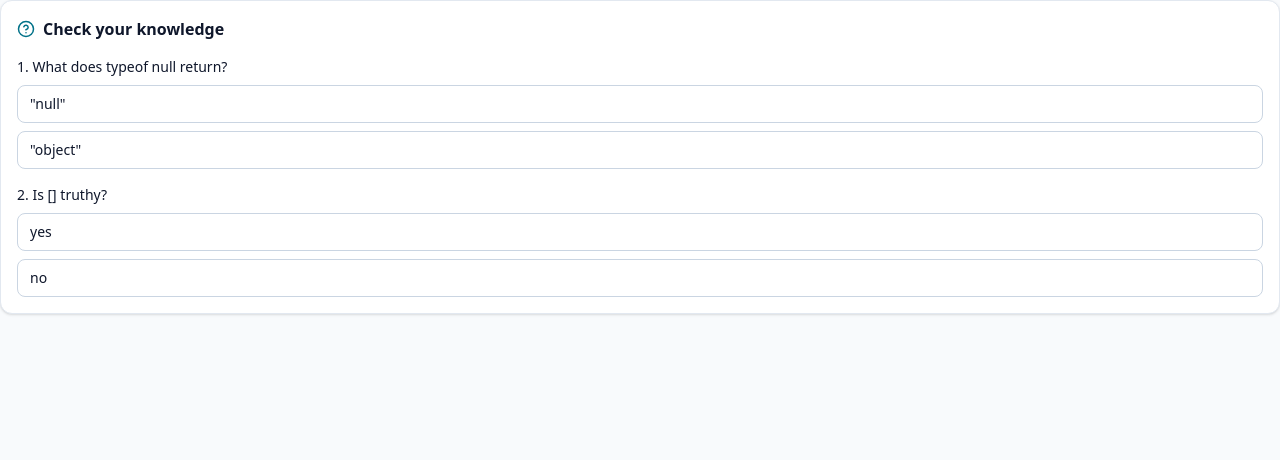
Quiz › reveals right and wrong answers with the explanation and counts the score
What coordinates should you click on to do the following:
click the button "\"null\""
I would click on:
 (48, 104)
Its box is [17,85,1263,123].
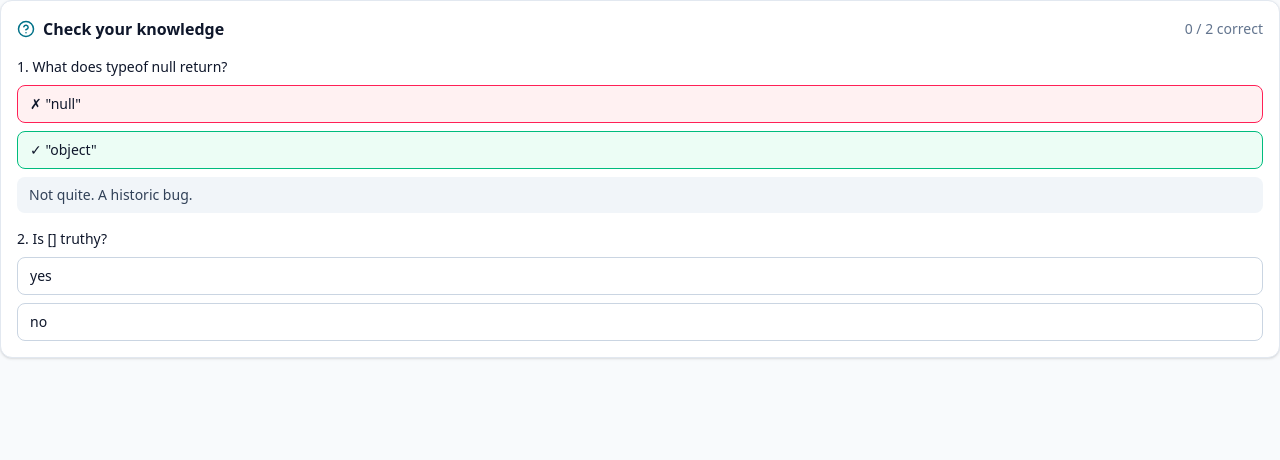
Expected: the text "Not quite. A historic bug." is shown, [17,177,1263,213]
Expected: the button "✓ \"object\"" is disabled, [17,131,1263,169]
What coordinates should you click on to do the following:
click the button "yes"
I would click on:
 (41, 276)
Its box is [17,257,1263,295].
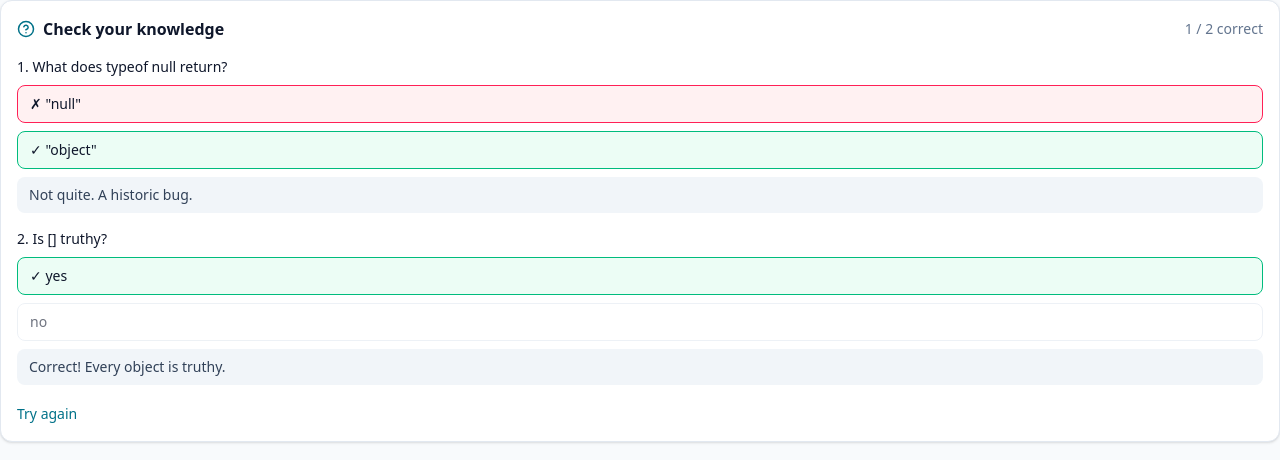
Expected: the text "Correct! Every object is truthy." is shown, [17,349,1263,385]
Expected: the text "1 / 2 correct" is shown, [1185,19,1263,39]
